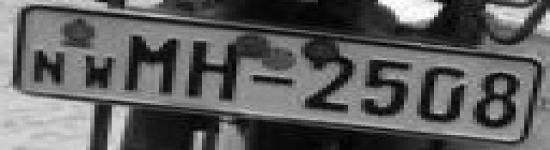-: (250, 71, 296, 88)
0: (413, 57, 468, 128)
2: (301, 50, 358, 116)
5: (357, 52, 412, 122)
8: (473, 67, 529, 132)
H: (183, 34, 246, 106)
N: (24, 49, 76, 88)
W: (122, 32, 182, 100), (80, 50, 117, 91)
